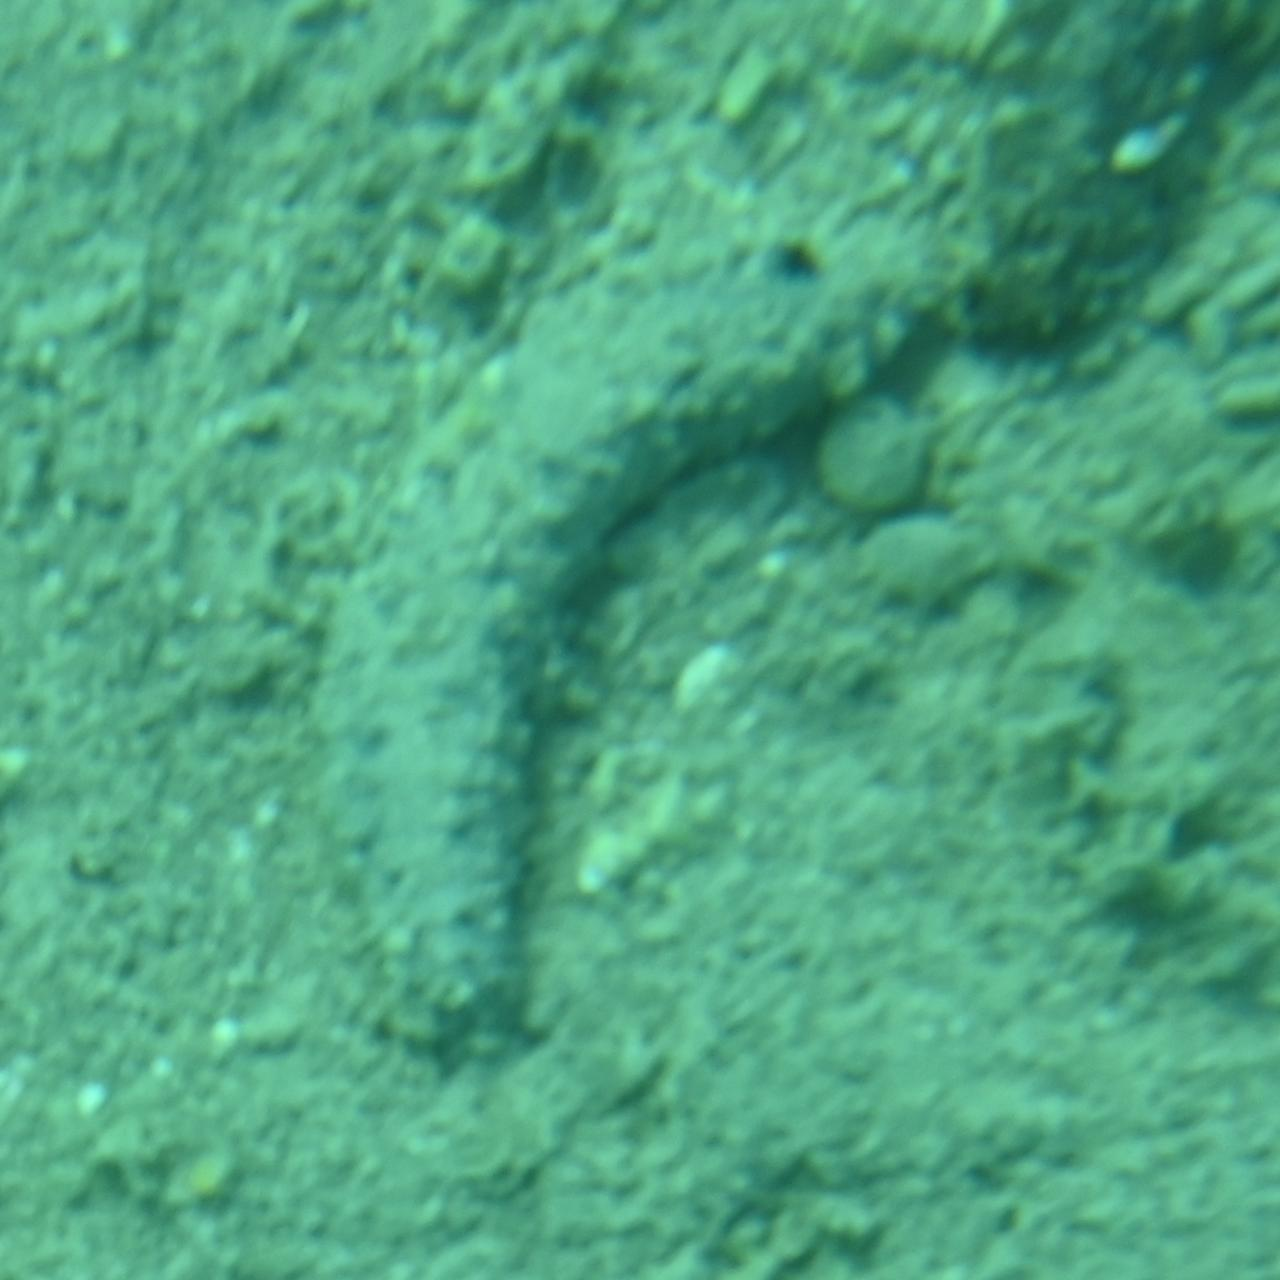Holothuria tubulosa: (322, 144, 958, 1074)
